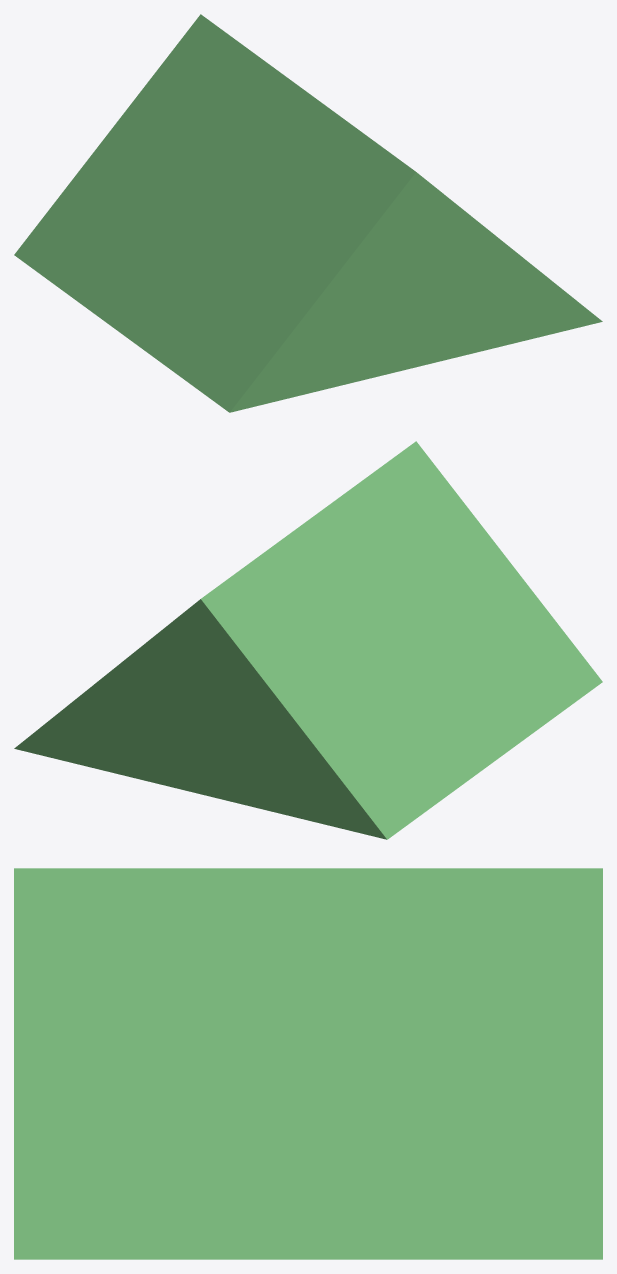
File: segitiga.glb
The picture shows the model from 3 angles, top to bottom: view 1: azimuth 30°, elevation 25°; view 2: azimuth 150°, elevation 25°; view 3: azimuth 270°, elevation 25°; orthographic projection. The views are drawn at different scales.
Visible parts, largest first — view 1: Mesh_Mesh_head_geo.001_lambert2SG.001; view 2: Mesh_Mesh_head_geo.001_lambert2SG.001; view 3: Mesh_Mesh_head_geo.001_lambert2SG.001.
Boxes of the visible parts, x1=… form: Mesh_Mesh_head_geo.001_lambert2SG.001: x1=14, y1=14, x2=602, y2=412; Mesh_Mesh_head_geo.001_lambert2SG.001: x1=14, y1=441, x2=602, y2=839; Mesh_Mesh_head_geo.001_lambert2SG.001: x1=14, y1=868, x2=602, y2=1259.
Size of the model in its own units: 20 by 10 by 20.
